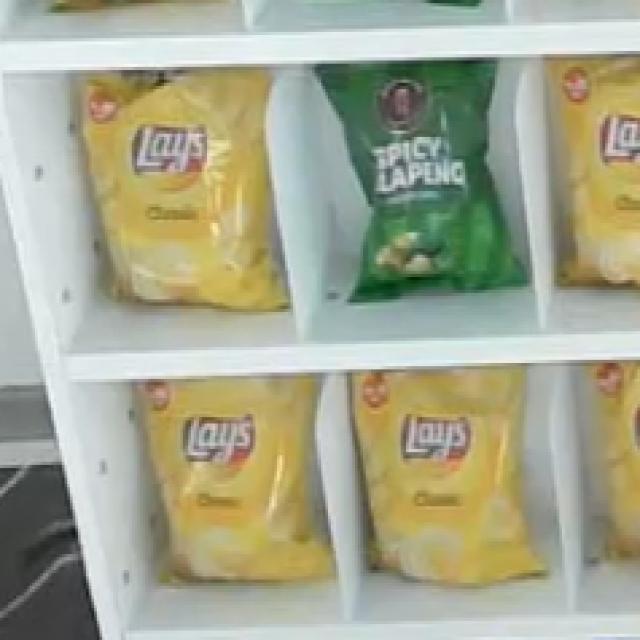Plastic: (72, 64, 296, 317), (309, 57, 532, 301), (345, 365, 556, 585), (130, 374, 338, 584), (542, 51, 640, 292), (583, 352, 640, 577)
